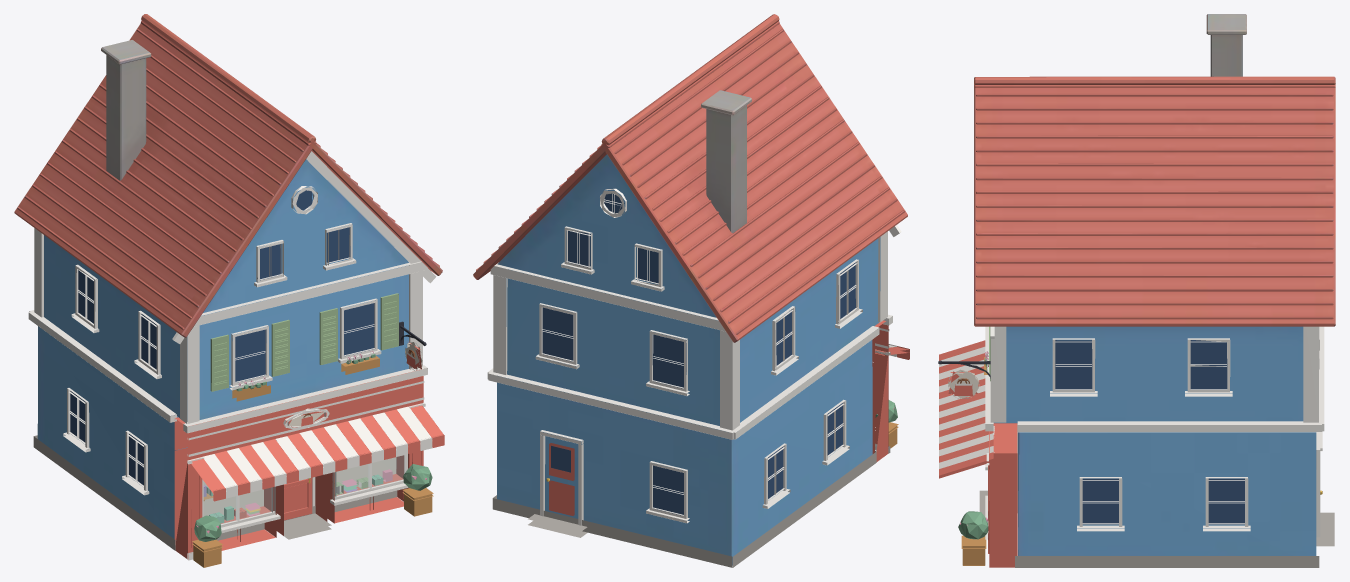
File: shopfront.glb
3 renders of one model, left to right at view 1: azimuth 30°, elevation 25°; view 2: azimuth 150°, elevation 25°; view 3: azimuth 270°, elevation 25°, orthographic. The views are drawn at different scales.
Visible parts, largest first — view 1: shop-front_body, shop-front_details, shop-front_shop_glass; view 2: shop-front_body, shop-front_details; view 3: shop-front_body, shop-front_details.
Part boxes in pixels (left/top/right/bottom): shop-front_body: left=14, top=14, right=442, bottom=538; shop-front_details: left=28, top=151, right=444, bottom=567; shop-front_shop_glass: left=204, top=455, right=405, bottom=523; shop-front_body: left=473, top=14, right=907, bottom=565; shop-front_details: left=487, top=188, right=909, bottom=567; shop-front_body: left=974, top=14, right=1335, bottom=555; shop-front_details: left=938, top=326, right=1334, bottom=567.
Size of the model in its own units: 7.23 by 10.98 by 8.83.
Materials: 18 (1 with a texture image).
